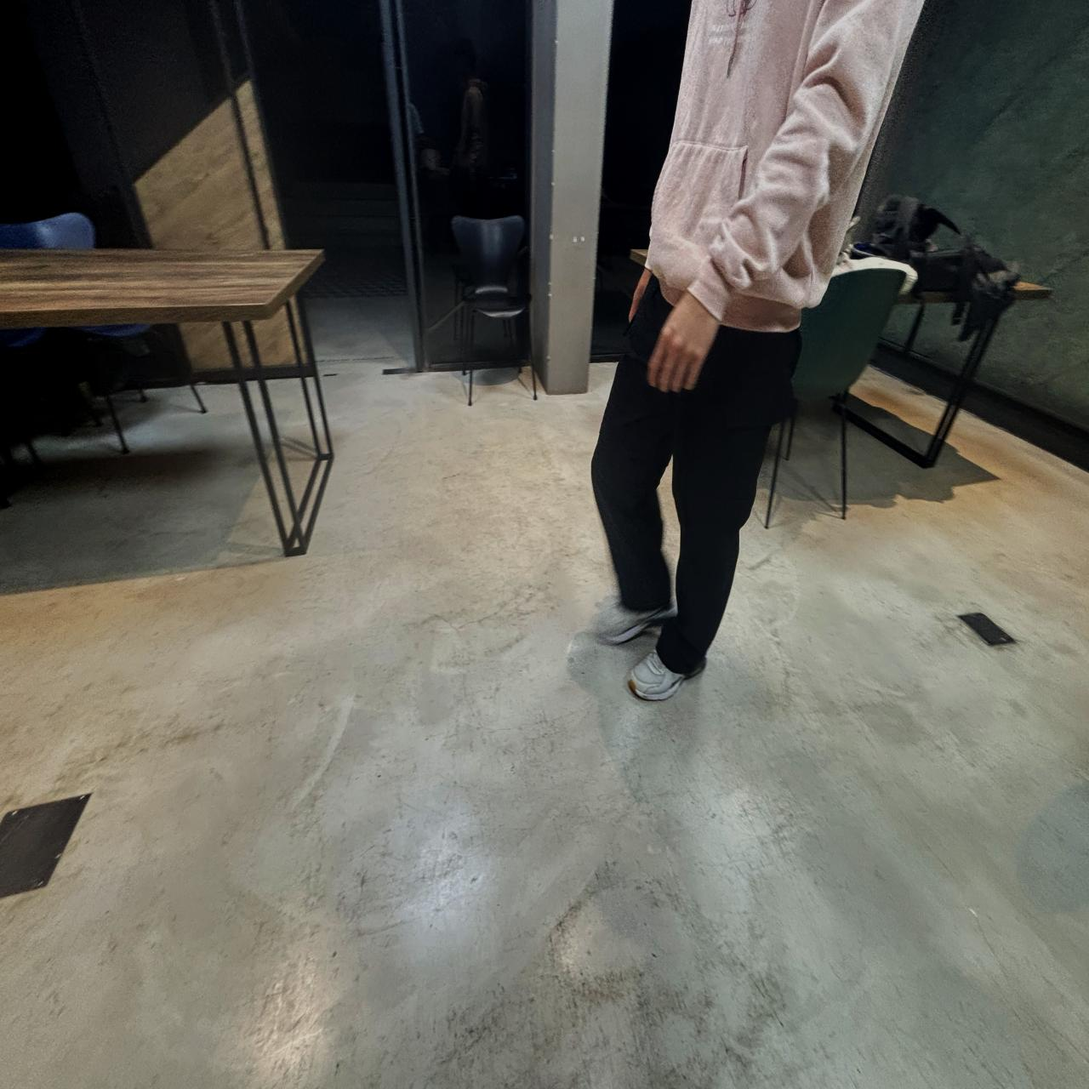person: (593, 0, 922, 699)
